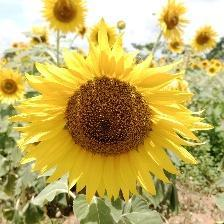sunflower: (32, 51, 205, 198)
